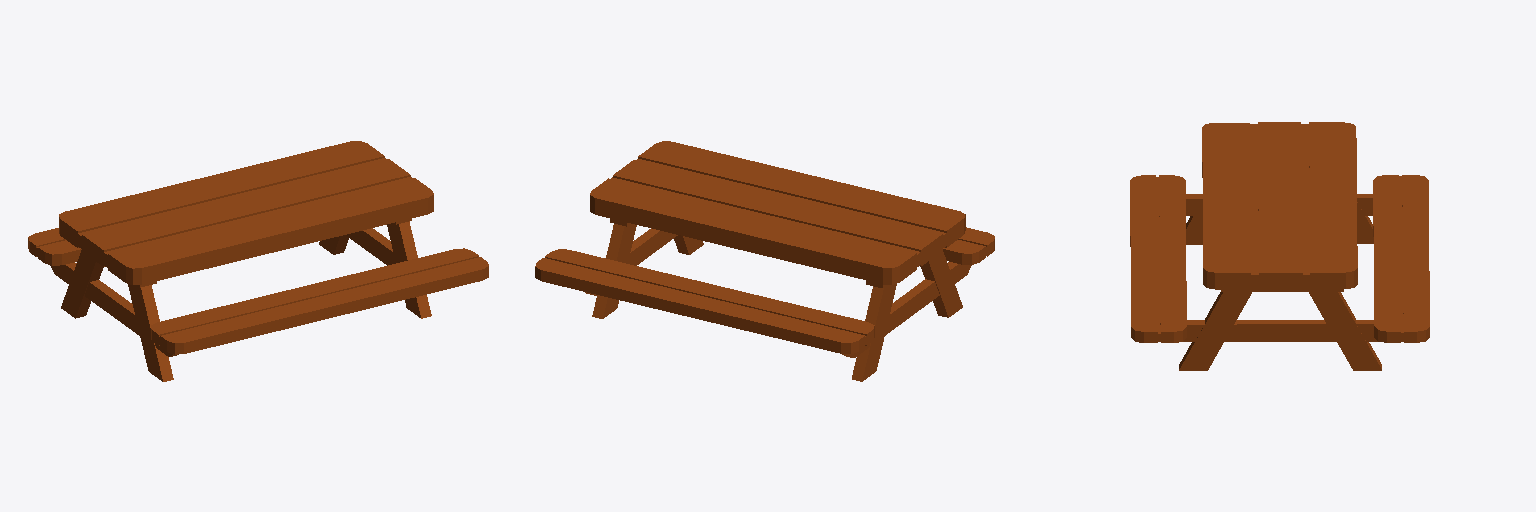
File: picnic-table.obj
The picture shows the model from 3 angles: view 1: azimuth 30°, elevation 25°; view 2: azimuth 150°, elevation 25°; view 3: azimuth 270°, elevation 25°; orthographic projection.
Visible parts, largest first — view 1: picnic_table; view 2: picnic_table; view 3: picnic_table.
Part boxes in pixels (x1,y1,x2,y2): picnic_table: (28,141,488,381); picnic_table: (535,141,994,381); picnic_table: (1130,122,1429,370).
Size of the model in its own units: 7.05 by 2.21 by 5.59.